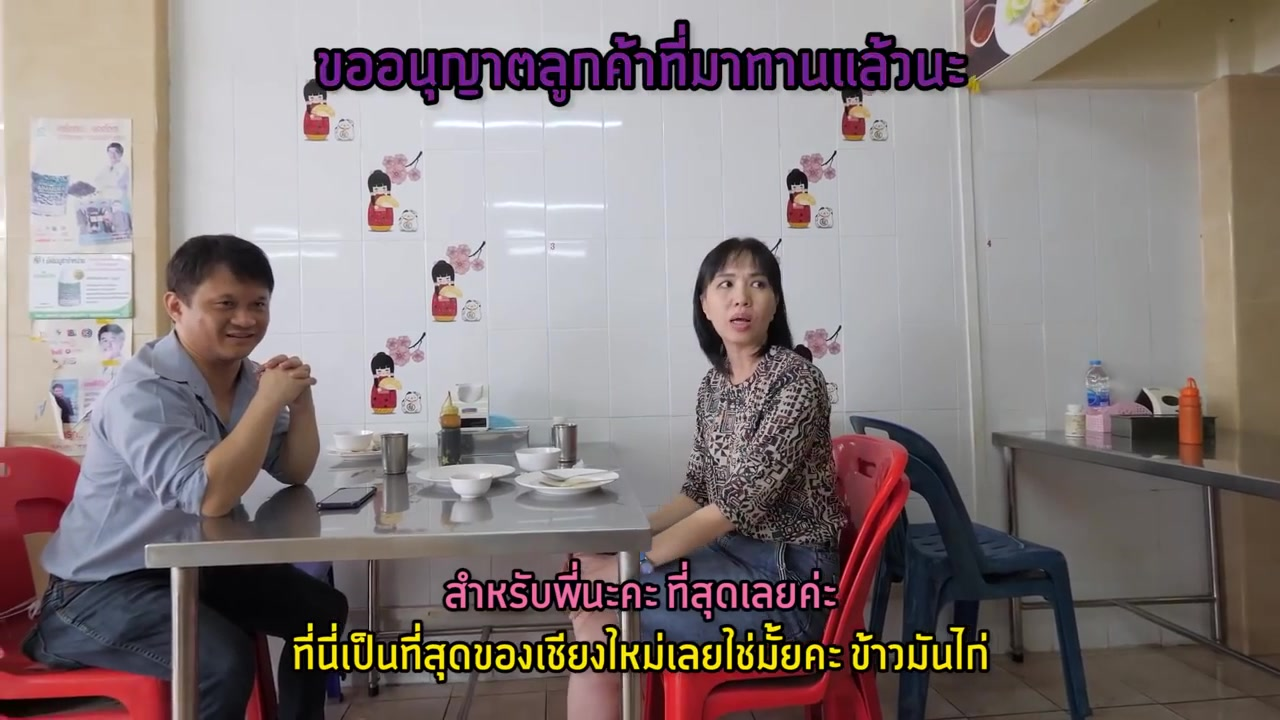text-label: (309, 16, 969, 107)
